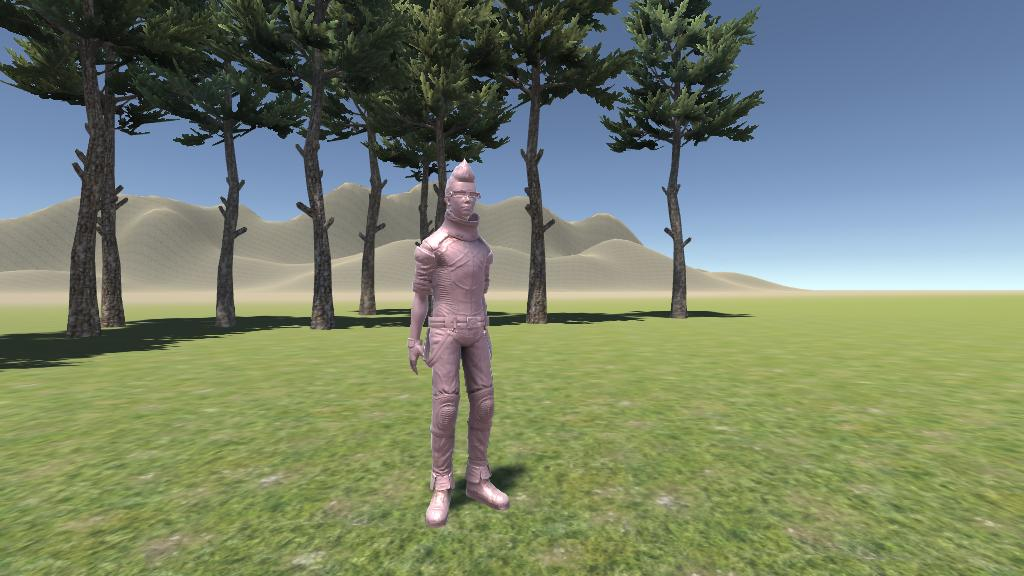ethan: (407, 159, 510, 529)
